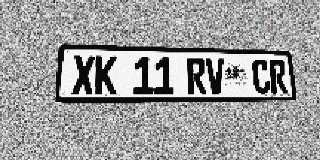1: (133, 57, 154, 95), (154, 57, 174, 94)
C: (252, 59, 271, 94)
K: (95, 56, 117, 95)
R: (187, 58, 207, 94), (269, 60, 288, 94)
V: (206, 58, 225, 94)
X: (72, 55, 95, 95)
